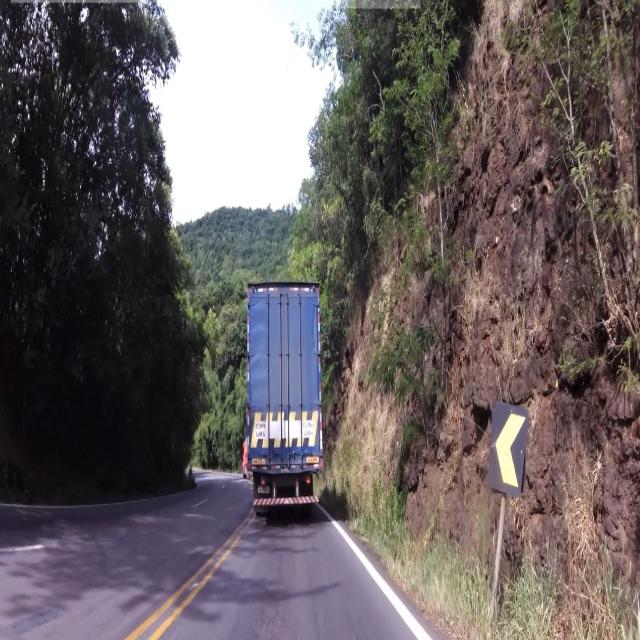Del: (491, 398, 525, 505)
